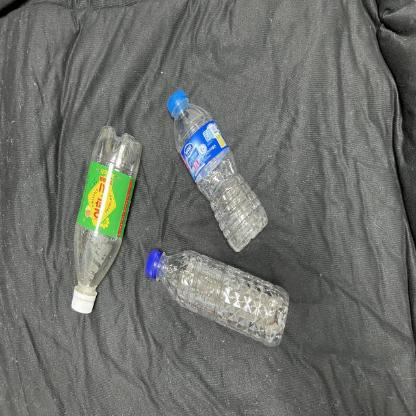Plastic Bottle: (166, 88, 268, 252), (145, 248, 289, 346), (70, 124, 142, 314)
